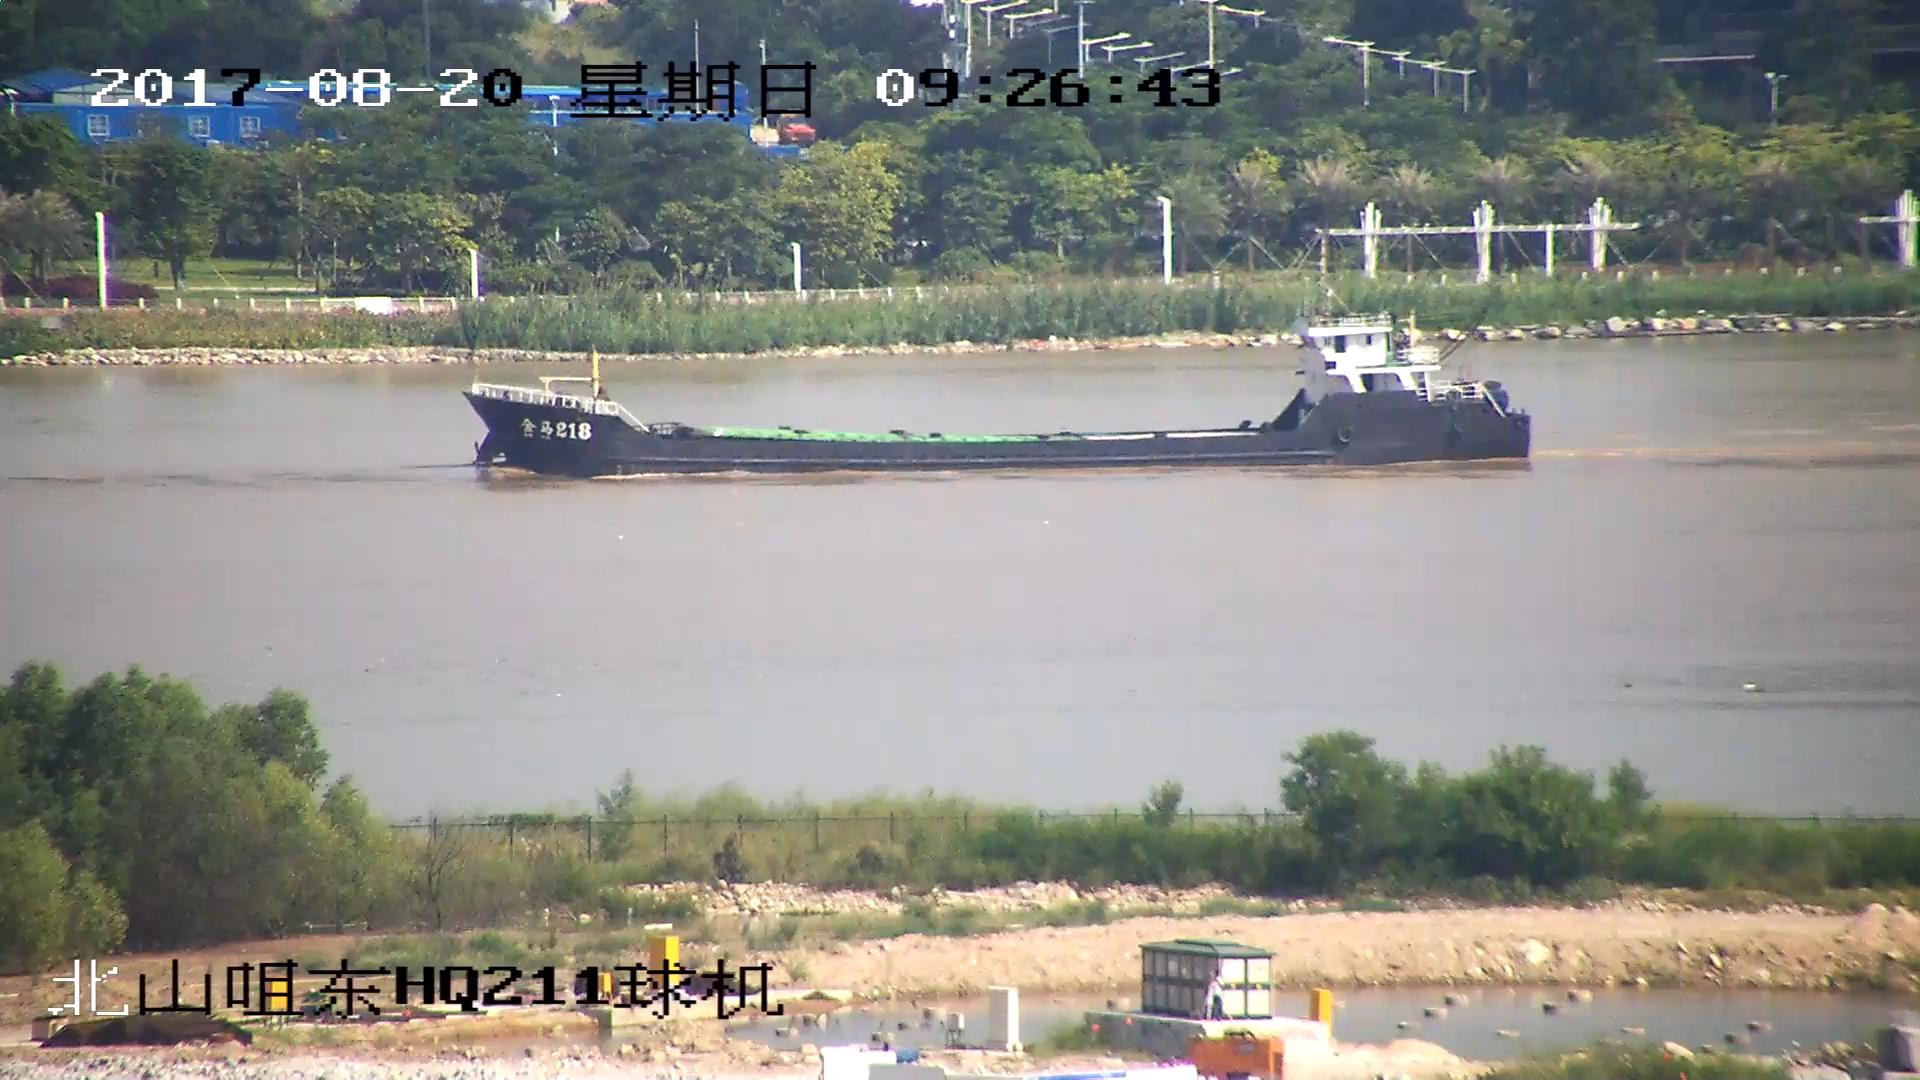general cargo ship: (479, 312, 1529, 476)
